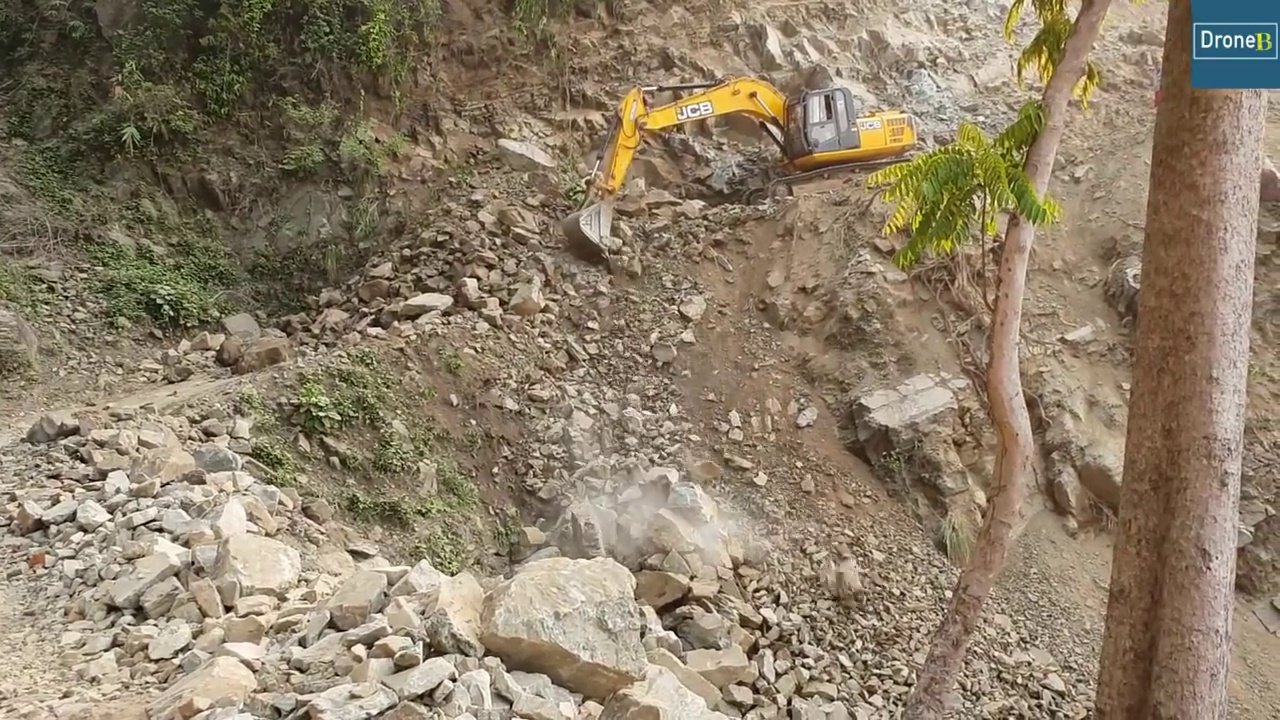excavator: (566, 73, 917, 267)
